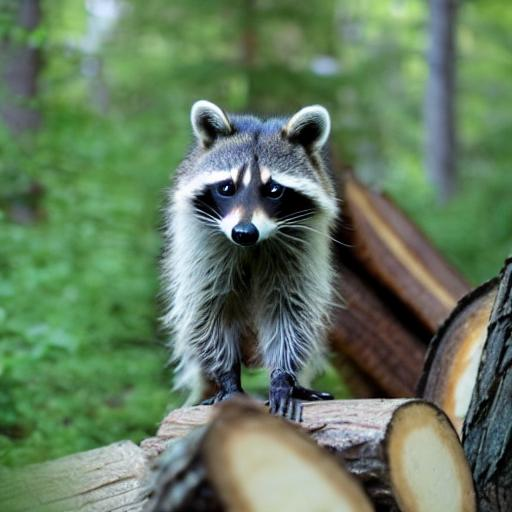raccoon: (157, 94, 343, 375)
